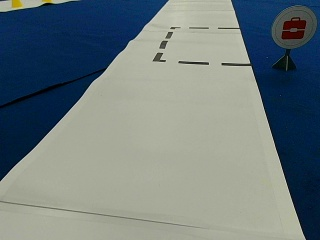company: (272, 4, 317, 47)
